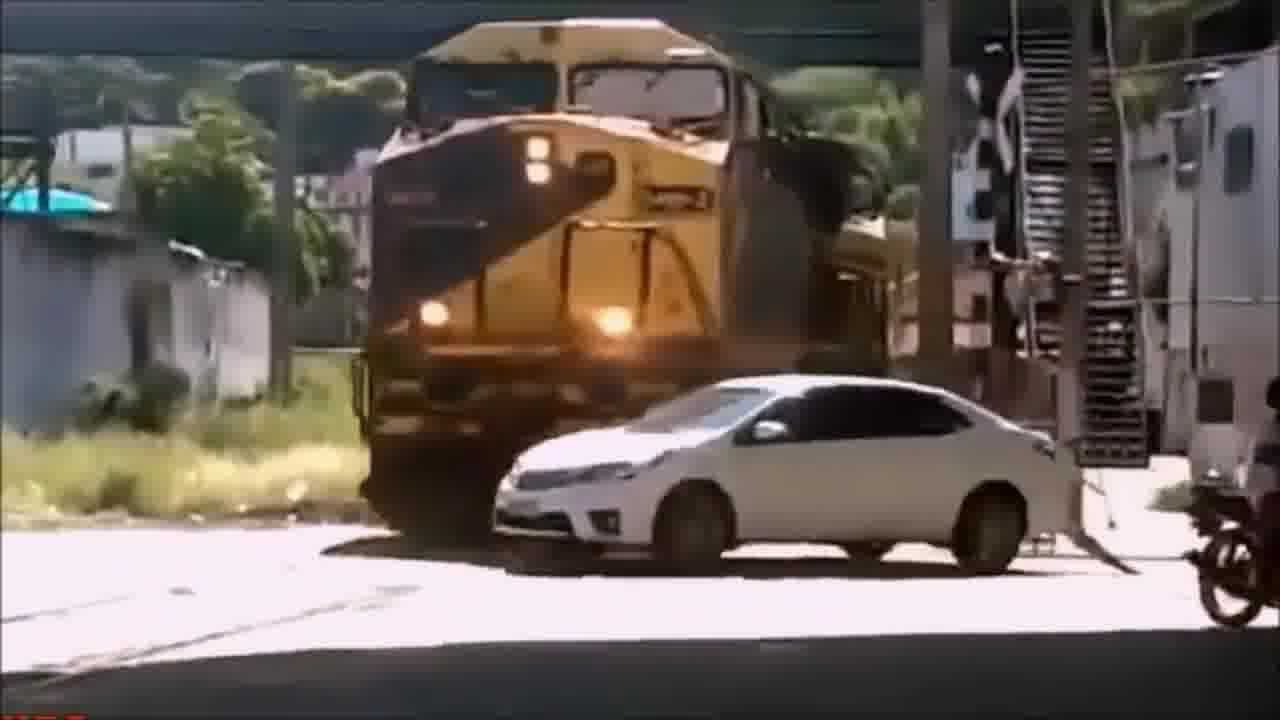crossing railway track: (490, 361, 1110, 566)
